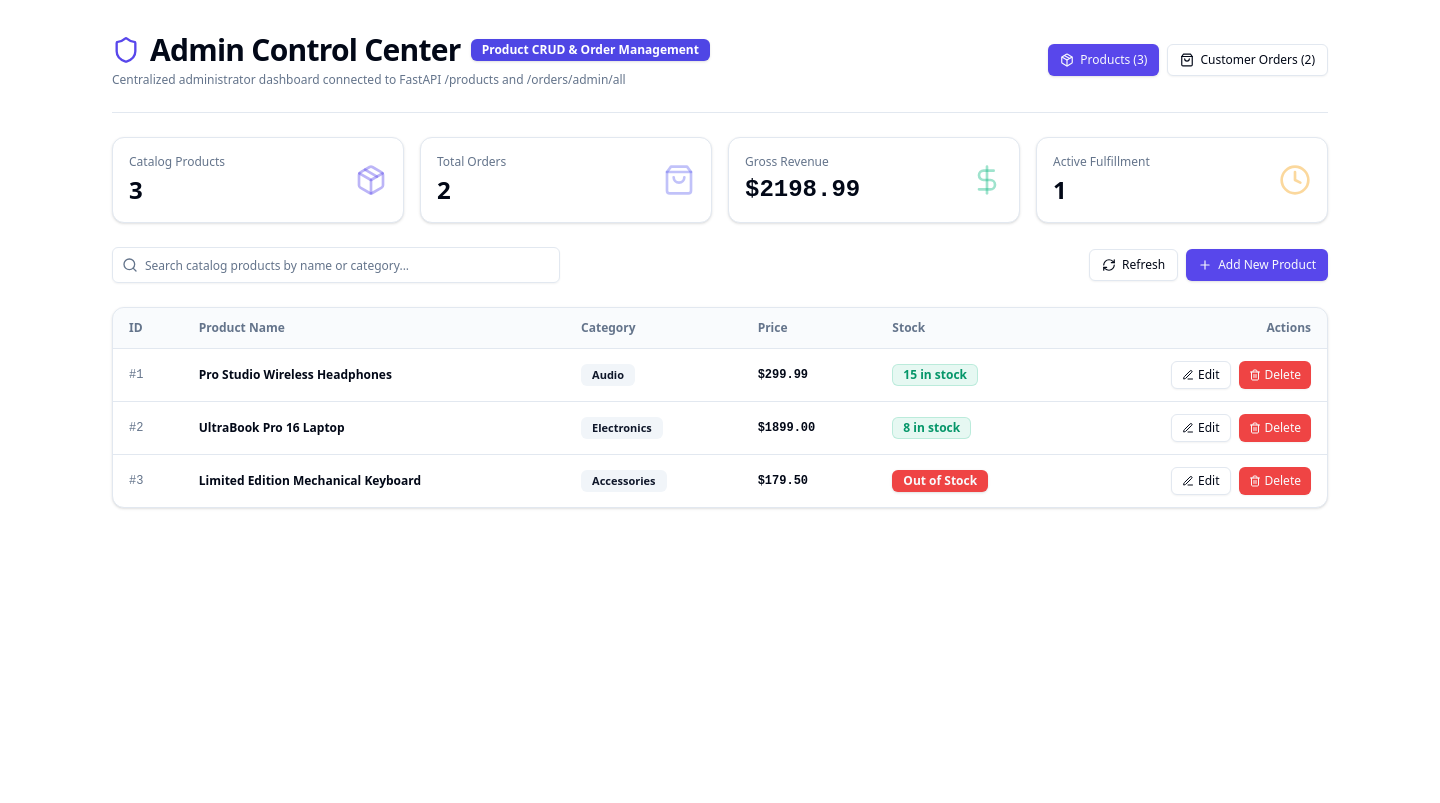
Test: Day 16 — E-Commerce Frontend (Part 2) Comprehensive Test Suite › 4. Admin Dashboard (Product CRUD & Customer Order Management) › renders Admin Control Center and creates a new product via POST /products/
Expected: the text "Pro Studio Wireless Headphones" is shown, [183,348,565,402]
Click the button "Add New Product".
click(1257, 265)  # box [1186,249,1328,281]
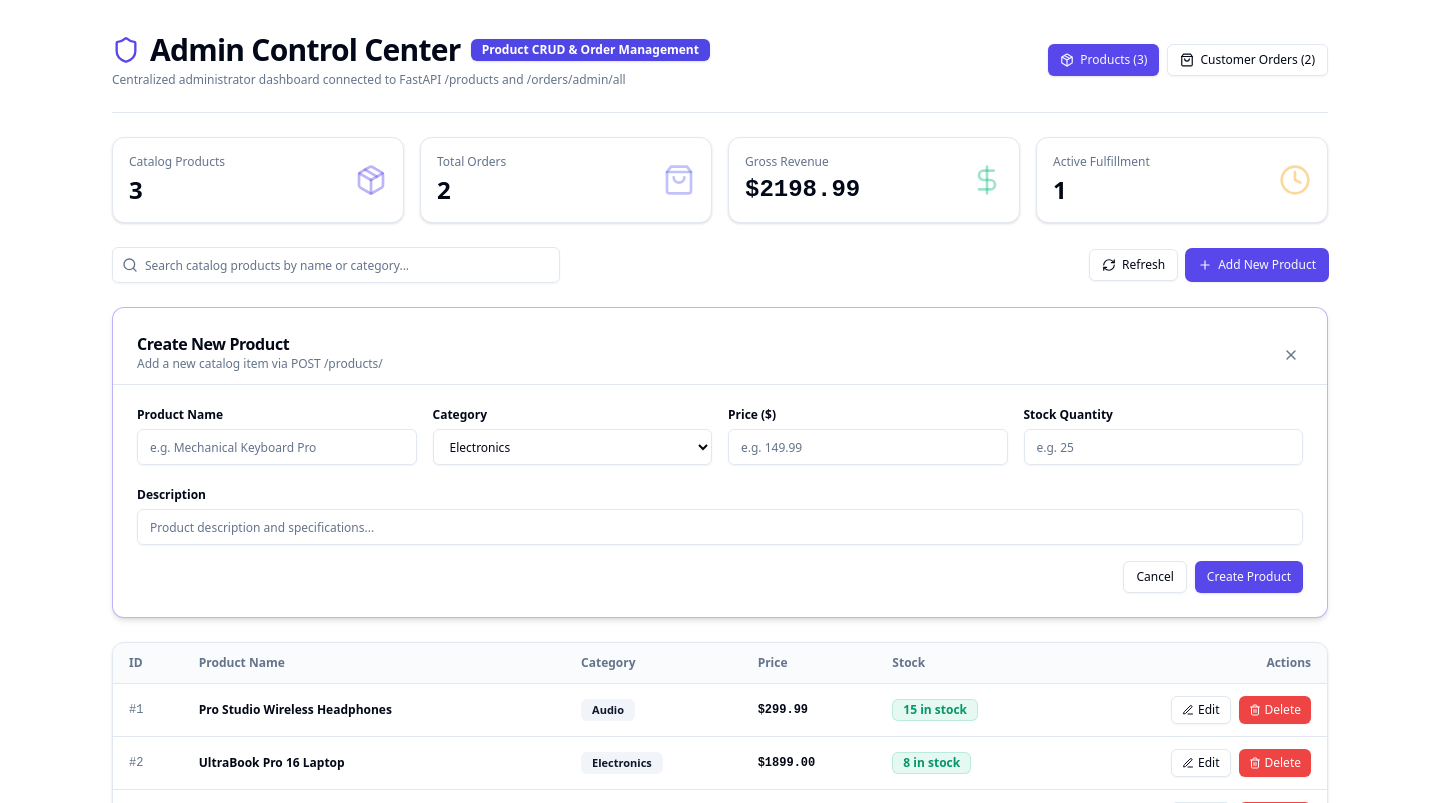
Type "4K OLED Gaming Monitor" into the field labelled "Product Name".
click(277, 447); type("4K OLED Gaming Monitor")  # box [137,429,416,465]
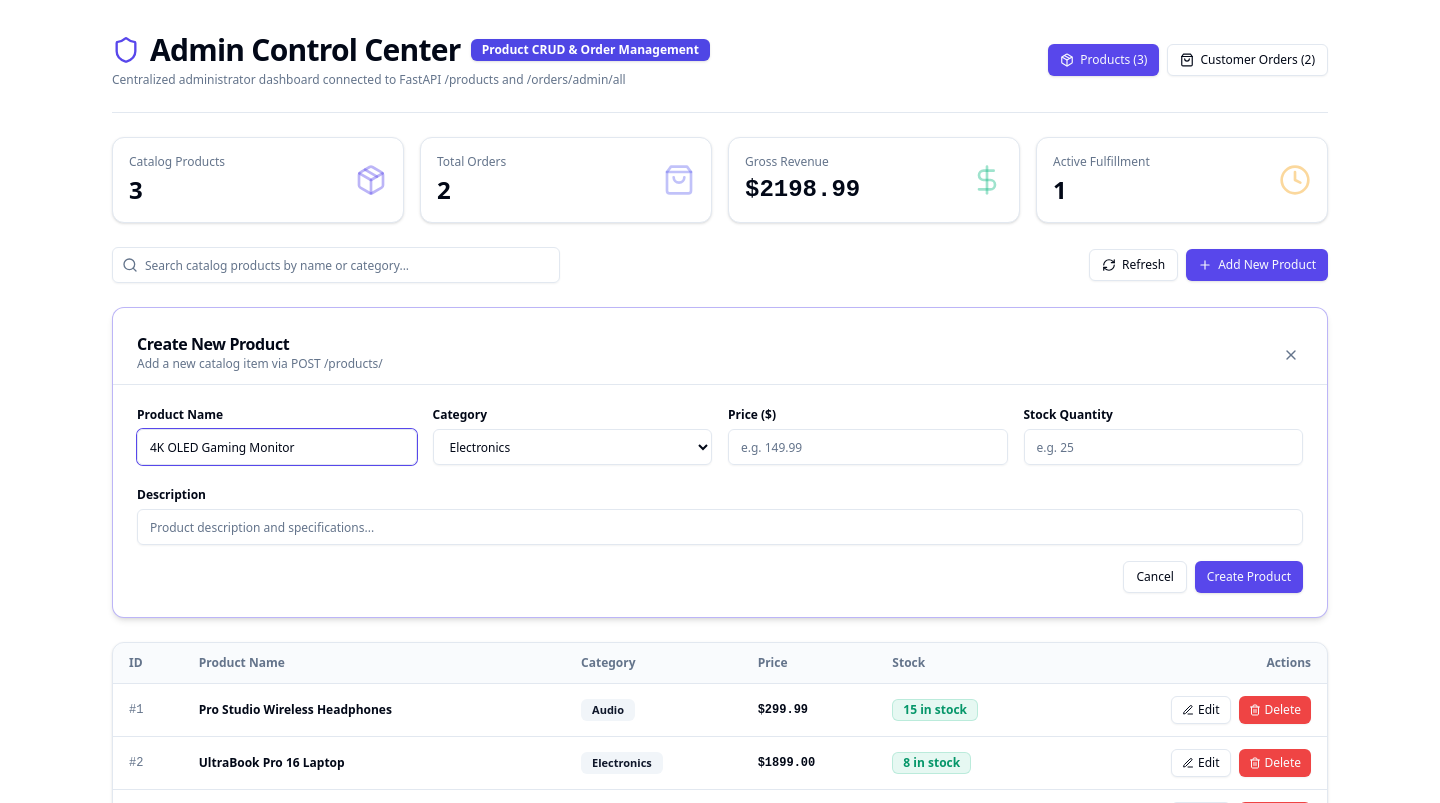
Type "799.99" into the number field labelled "Price ($)".
click(868, 447); type("799.99")  # box [728,429,1008,465]
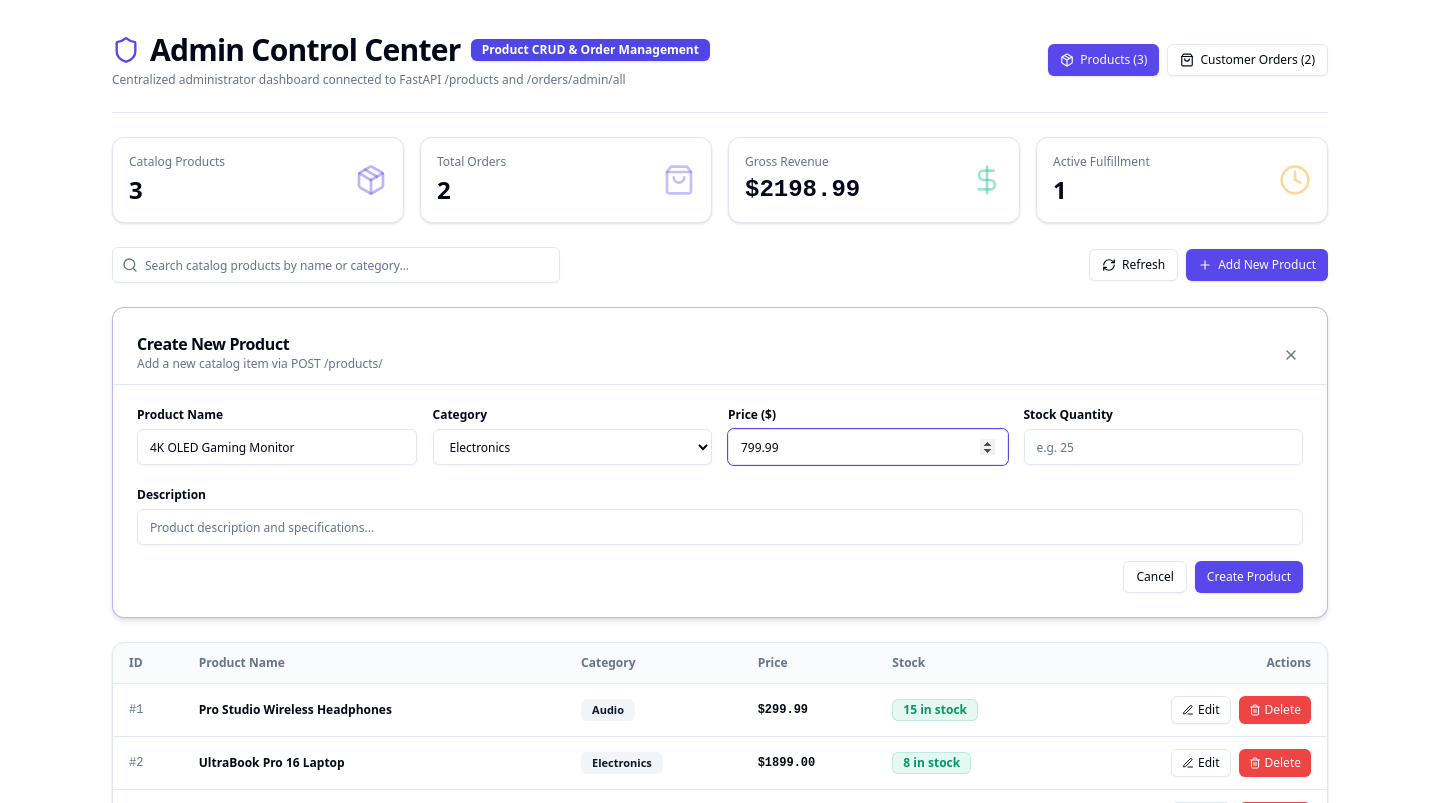
Type "12" into the number field labelled "Stock Quantity".
click(1163, 447); type("12")  # box [1024,429,1303,465]
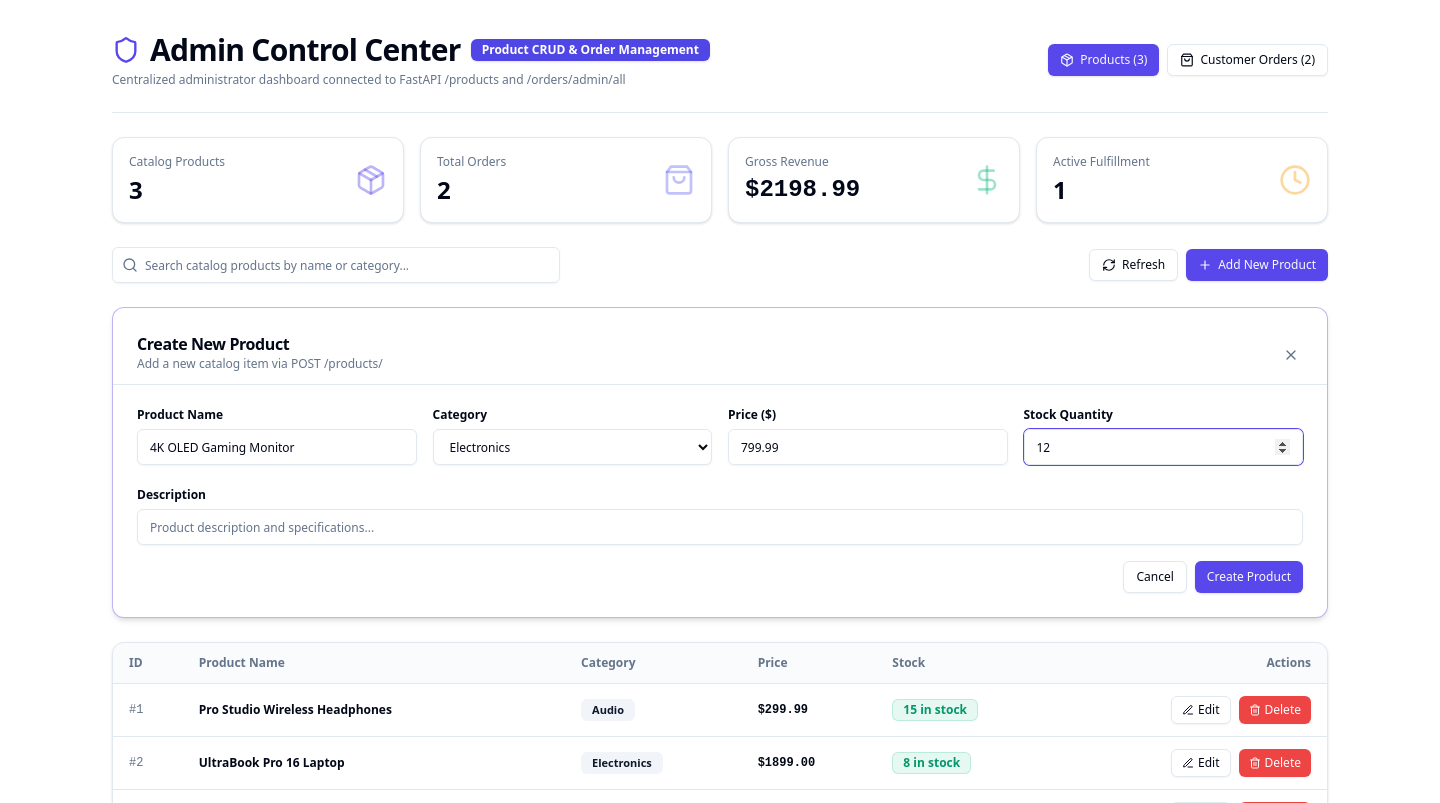
Type "240Hz 4K OLED Display" into the field labelled "Description".
click(720, 527); type("240Hz 4K OLED Display")  # box [137,509,1303,545]
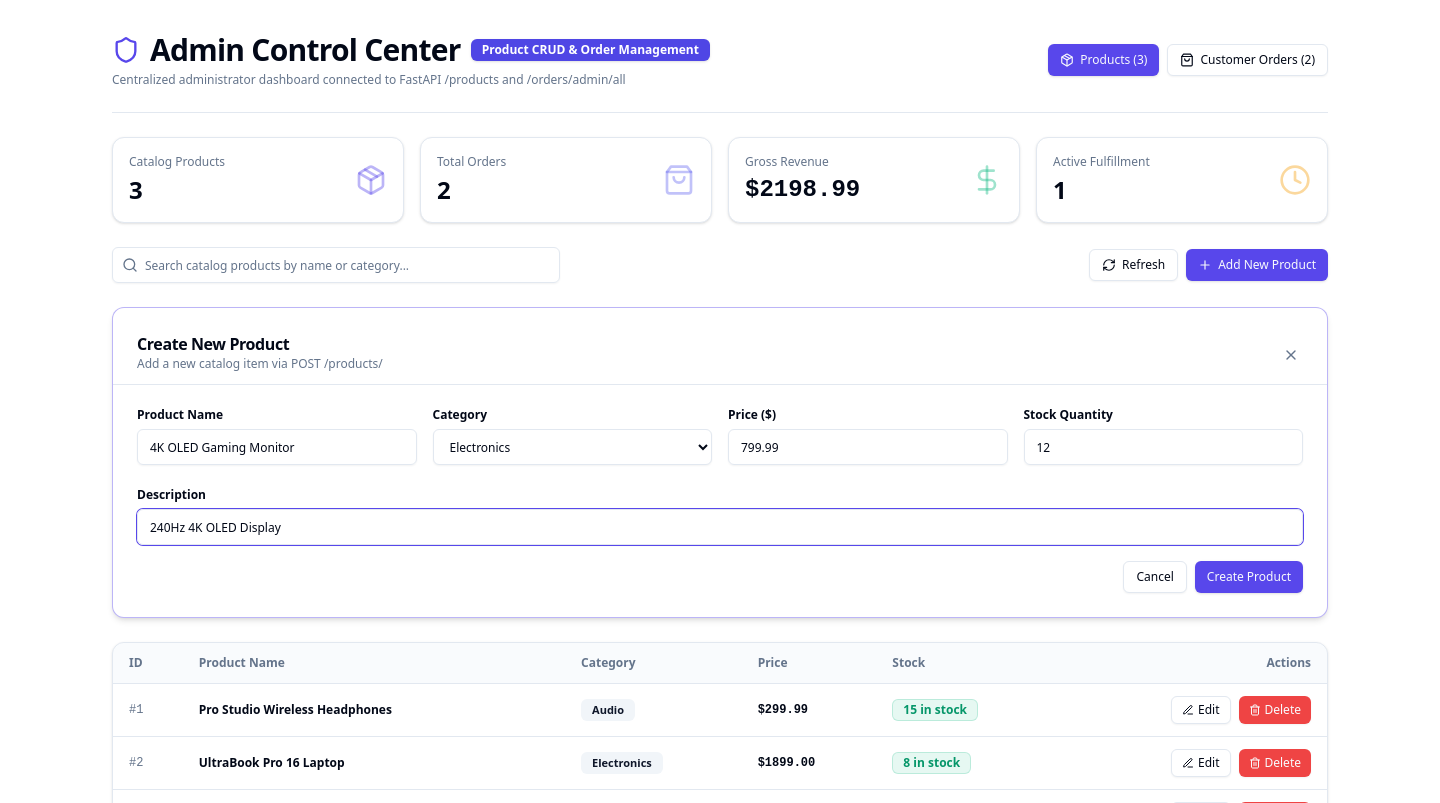
Click the button "Create Product".
click(1249, 577)  # box [1195,561,1303,593]
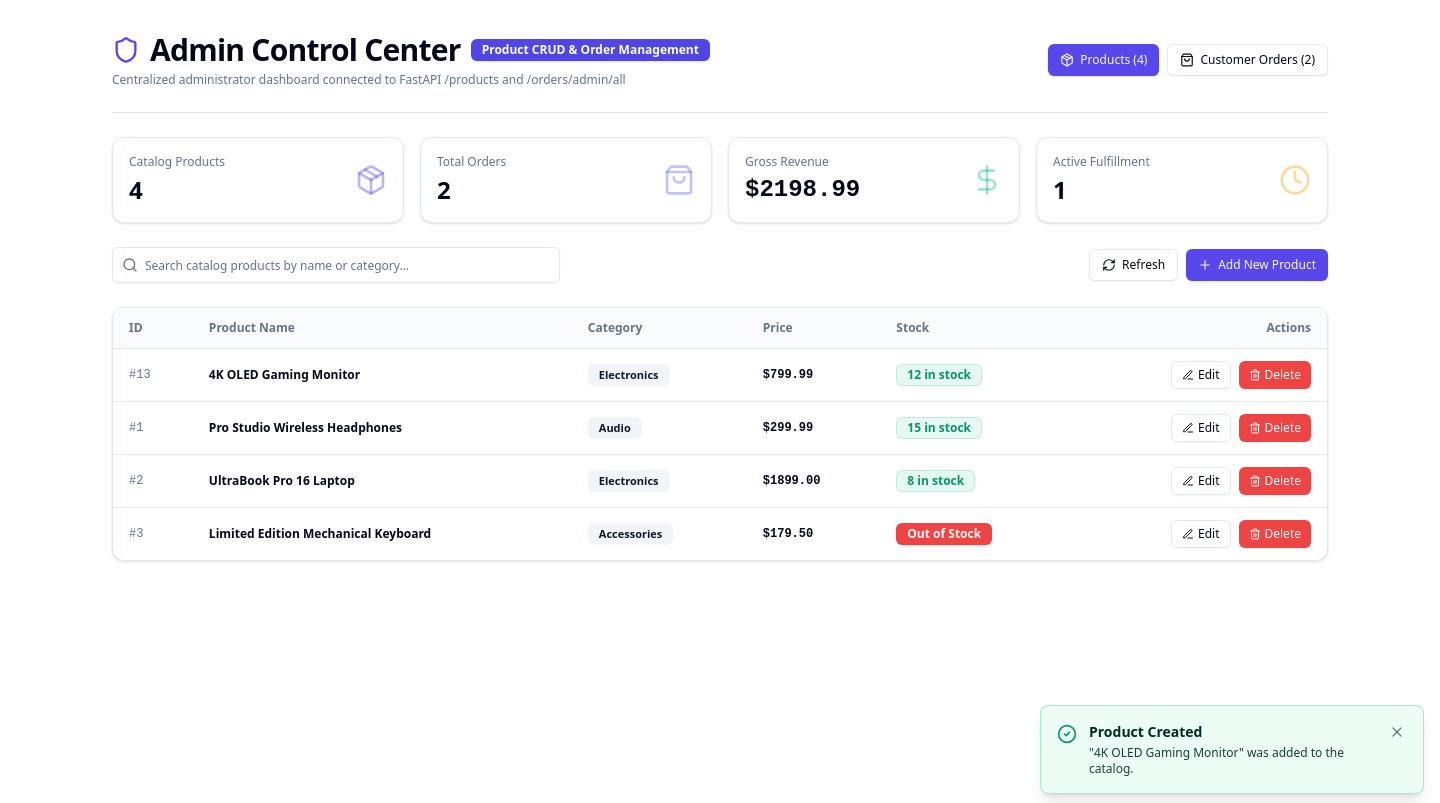
Expected: the text "4K OLED Gaming Monitor" is shown, [193,348,572,402]
